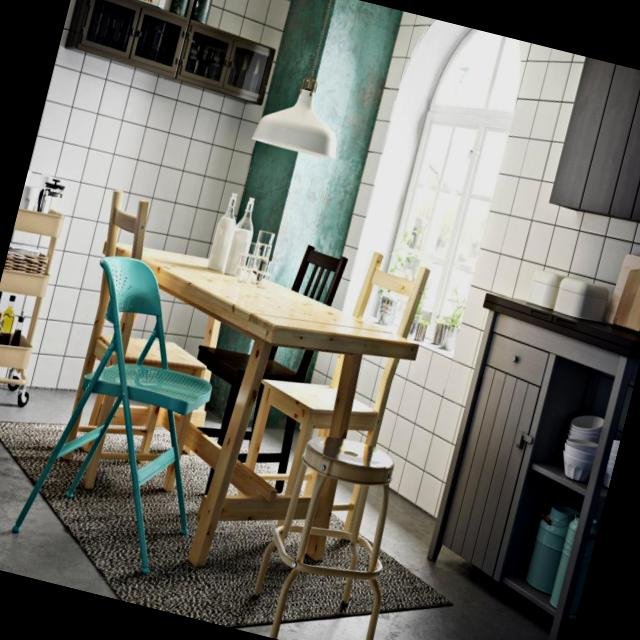obstacle: (31, 225, 432, 608), (5, 243, 252, 586)
